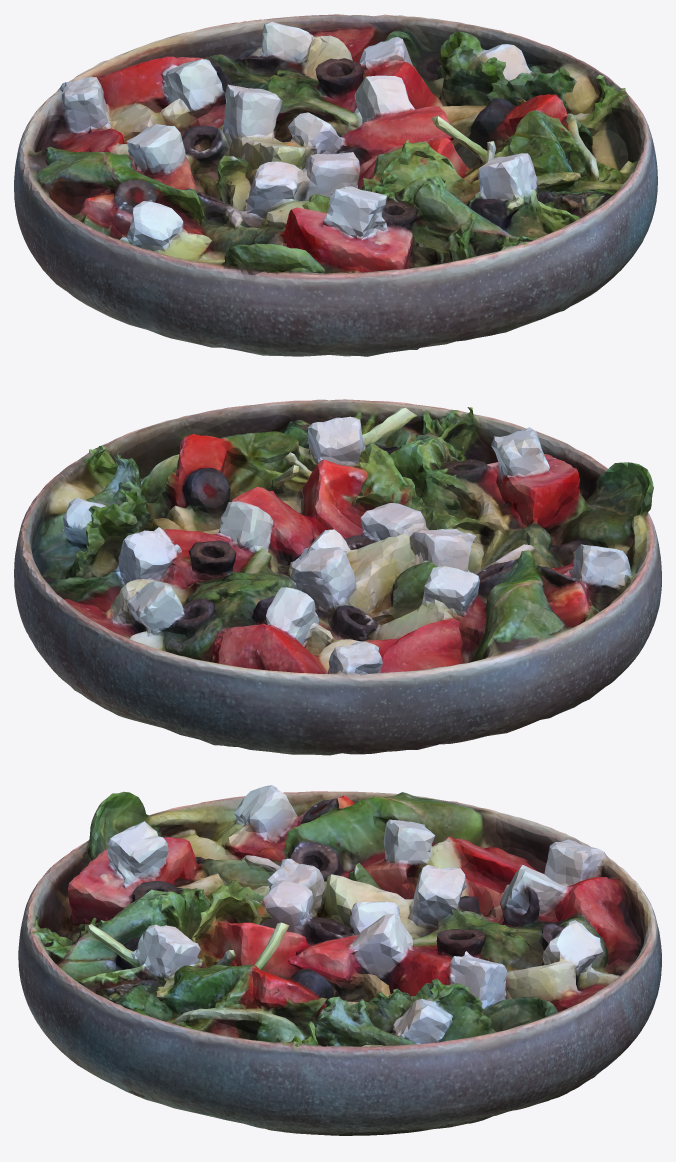
The model's file is salad yunnani medium 1.75 behine.glb.
The picture shows the model from 3 angles, top to bottom: view 1: azimuth 30°, elevation 25°; view 2: azimuth 150°, elevation 25°; view 3: azimuth 270°, elevation 25°; orthographic projection.
Parts seen in each view (by area): view 1: object 1; view 2: object 1; view 3: object 1.
Boxes of the visible parts, box(x1,y1,x2,y2) form: object 1: box(14, 14, 657, 356); object 1: box(14, 399, 661, 755); object 1: box(18, 785, 661, 1135).
Size of the model in its own units: 0.1989 by 0.0485 by 0.1995.
Materials: 2 (1 with a texture image).
